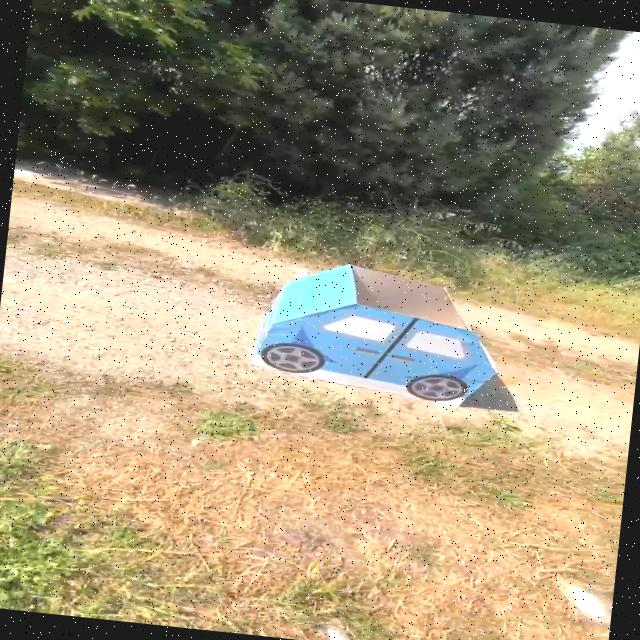blue_car: (230, 248, 521, 431)
